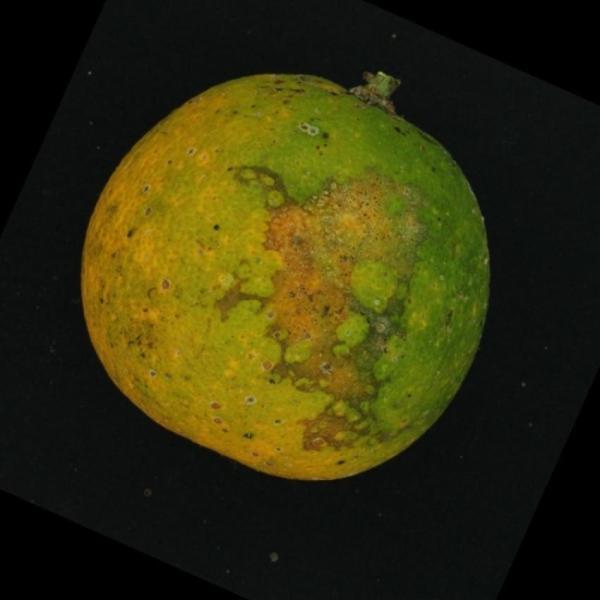Greening: (70, 53, 507, 489)
